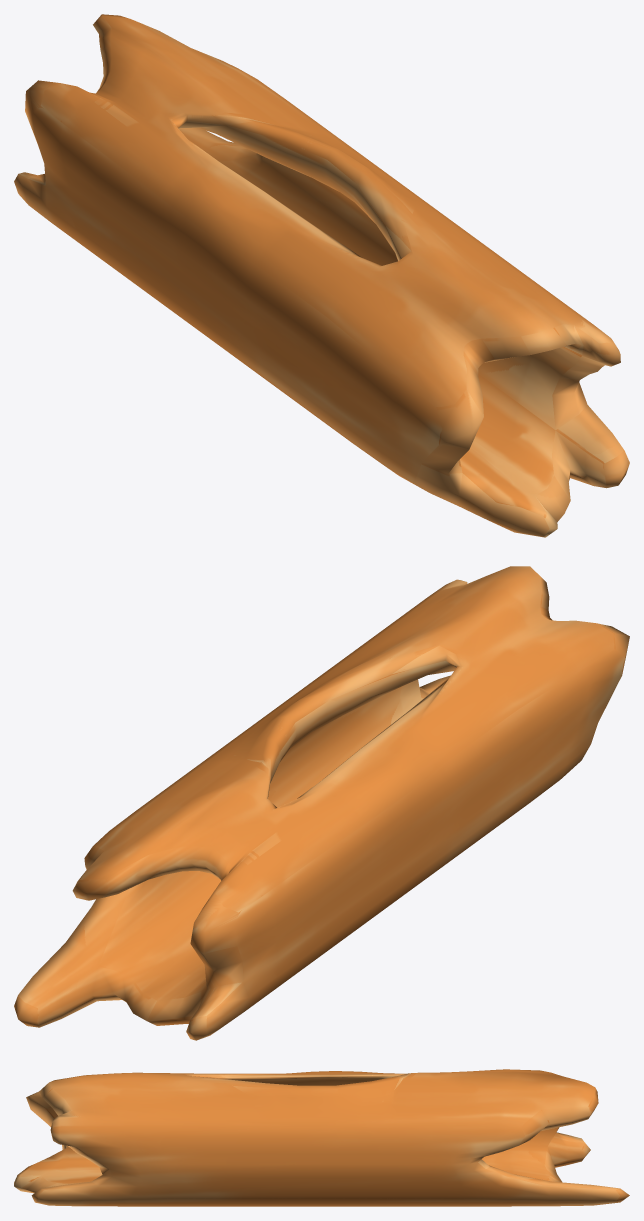
The model's file is fauna tronco uv.fbx.
3 renders of one model, top to bottom at view 1: azimuth 30°, elevation 25°; view 2: azimuth 150°, elevation 25°; view 3: azimuth 270°, elevation 25°, orthographic. The views are drawn at different scales.
Visible parts, largest first — view 1: Cube; view 2: Cube; view 3: Cube.
Boxes of the visible parts, x1,y1,x2,y2 form: Cube: (14, 14, 629, 537); Cube: (14, 566, 629, 1040); Cube: (14, 1069, 629, 1206).
Size of the model in its own units: 352 by 331 by 1492.
